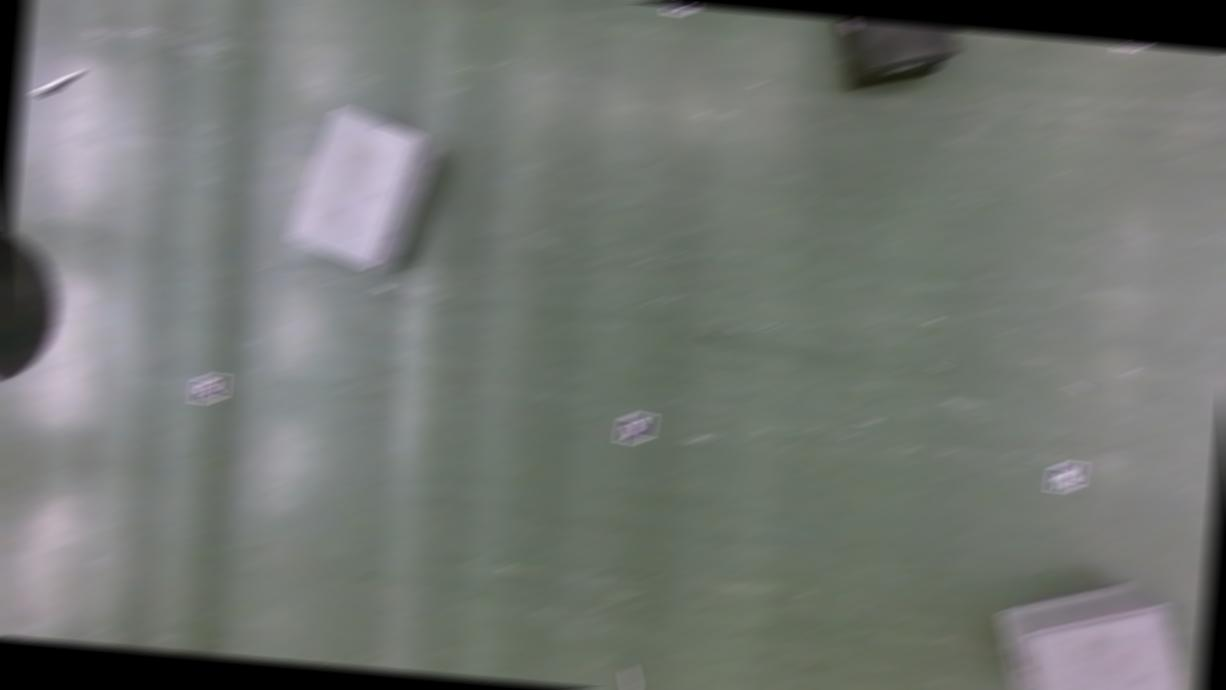probes: (32, 68, 84, 99), (620, 666, 647, 689)
rako: (282, 103, 443, 270), (818, 18, 962, 95)
